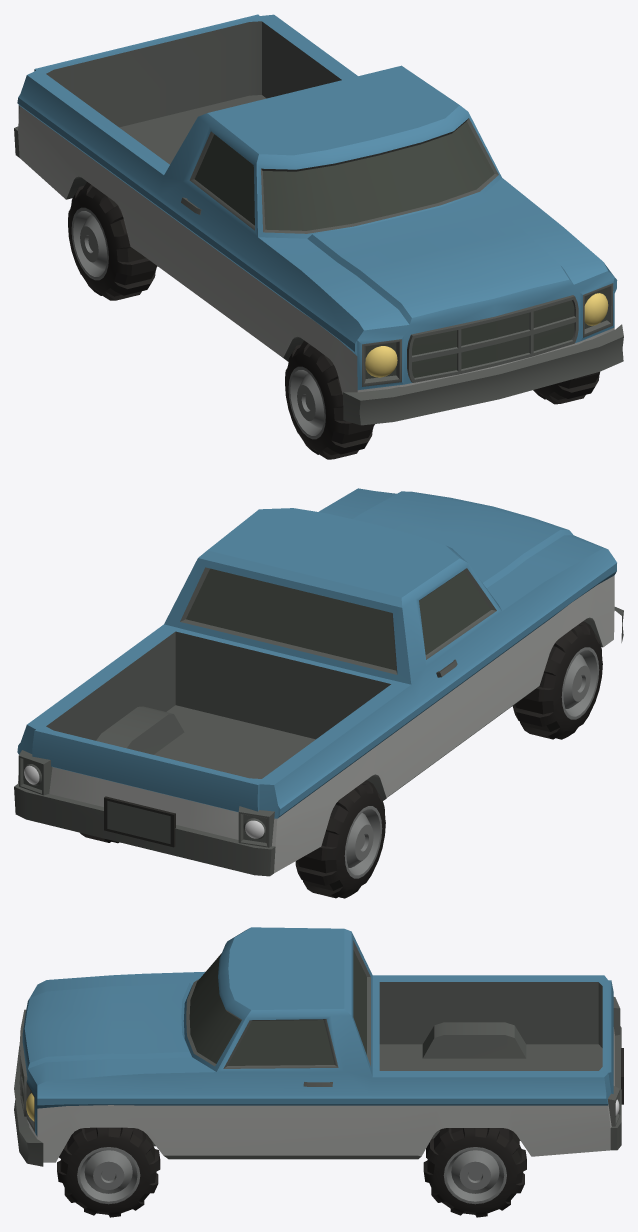
The model's file is car-pickup.glb.
3 renders of one model, top to bottom at view 1: azimuth 30°, elevation 25°; view 2: azimuth 150°, elevation 25°; view 3: azimuth 270°, elevation 25°, orthographic. The views are drawn at different scales.
Parts seen in each view (by area): view 1: BackWheels, Pickup; view 2: BackWheels; view 3: BackWheels.
Part boxes in pixels (box(x1,y1,x2,y2)): BackWheels: box(14, 14, 623, 459); Pickup: box(365, 293, 608, 377); BackWheels: box(14, 488, 623, 898); BackWheels: box(14, 927, 623, 1217).
Size of the model in its own units: 2.31 by 1.85 by 5.18.
Materials: 3 (1 with a texture image).
